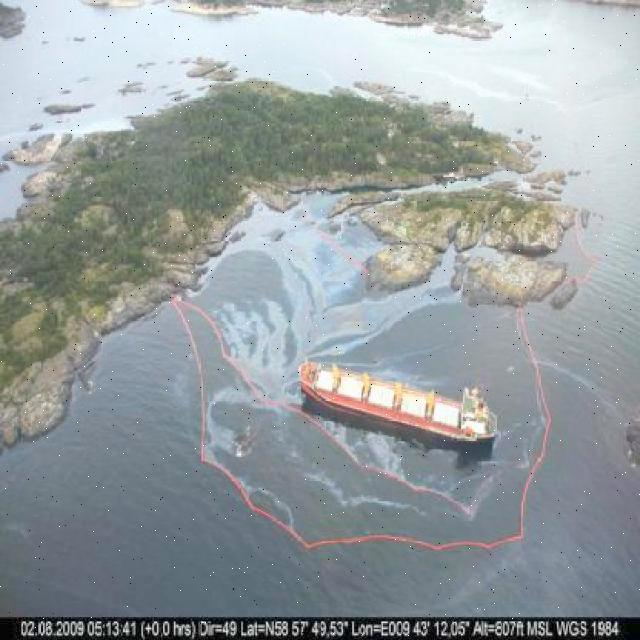oil: (234, 273, 436, 358)
